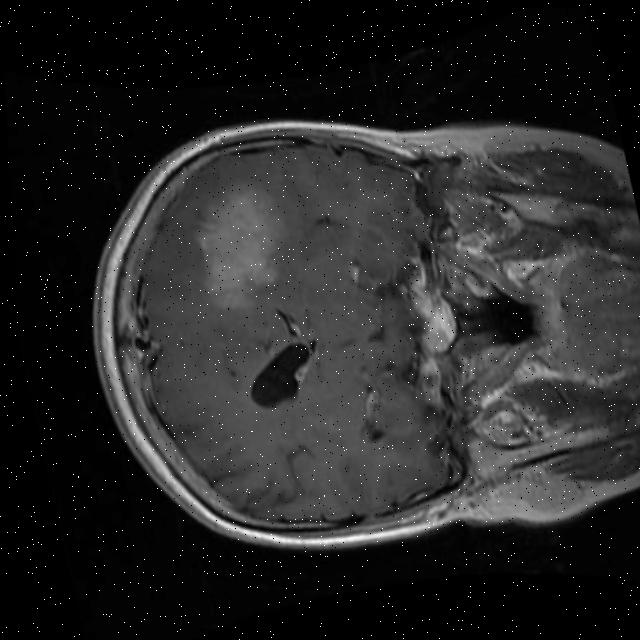Meningioma: (184, 175, 303, 312)
